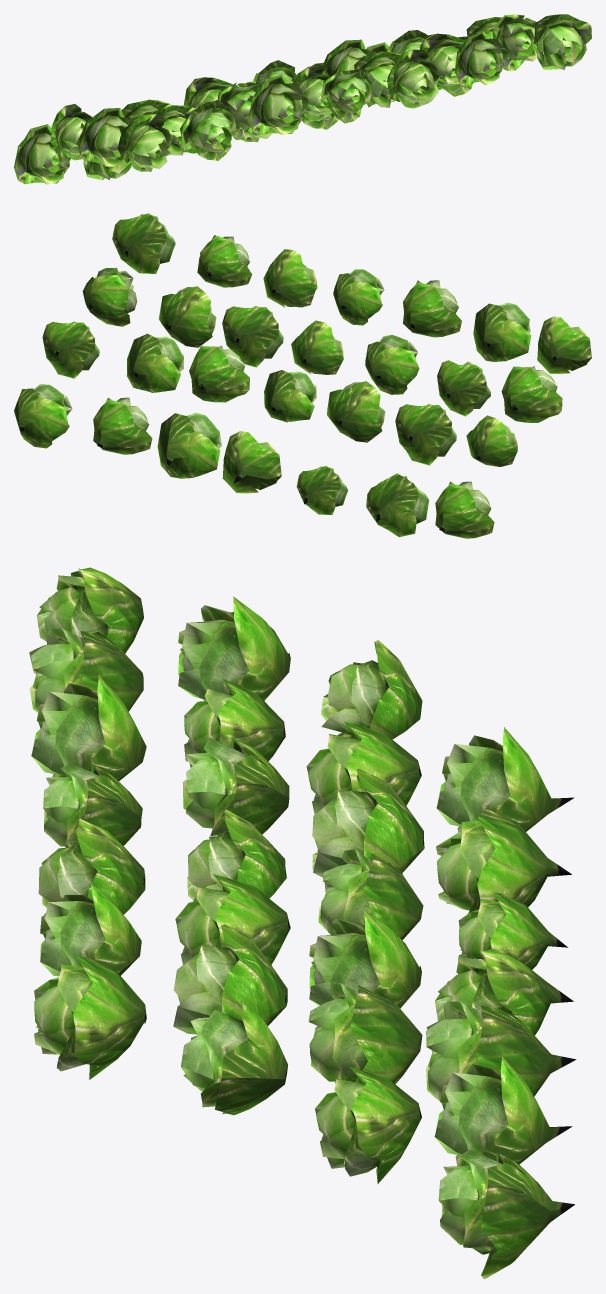
Rendered from nt_hydro_plant_green_LOD0.obj.
The picture shows the model from 3 angles, top to bottom: view 1: azimuth 30°, elevation 25°; view 2: azimuth 150°, elevation 25°; view 3: azimuth 270°, elevation 25°; orthographic projection. The views are drawn at different scales.
Parts seen in each view (by area): view 1: mtl_hydro_plant_01; view 2: mtl_hydro_plant_01; view 3: mtl_hydro_plant_01.
Boxes of the visible parts, x1,y1,x2,y2 form: mtl_hydro_plant_01: (14, 14, 591, 184); mtl_hydro_plant_01: (14, 213, 591, 538); mtl_hydro_plant_01: (29, 567, 576, 1279).
Bounding box in the file's own units: 288 × 91.8 × 143.
